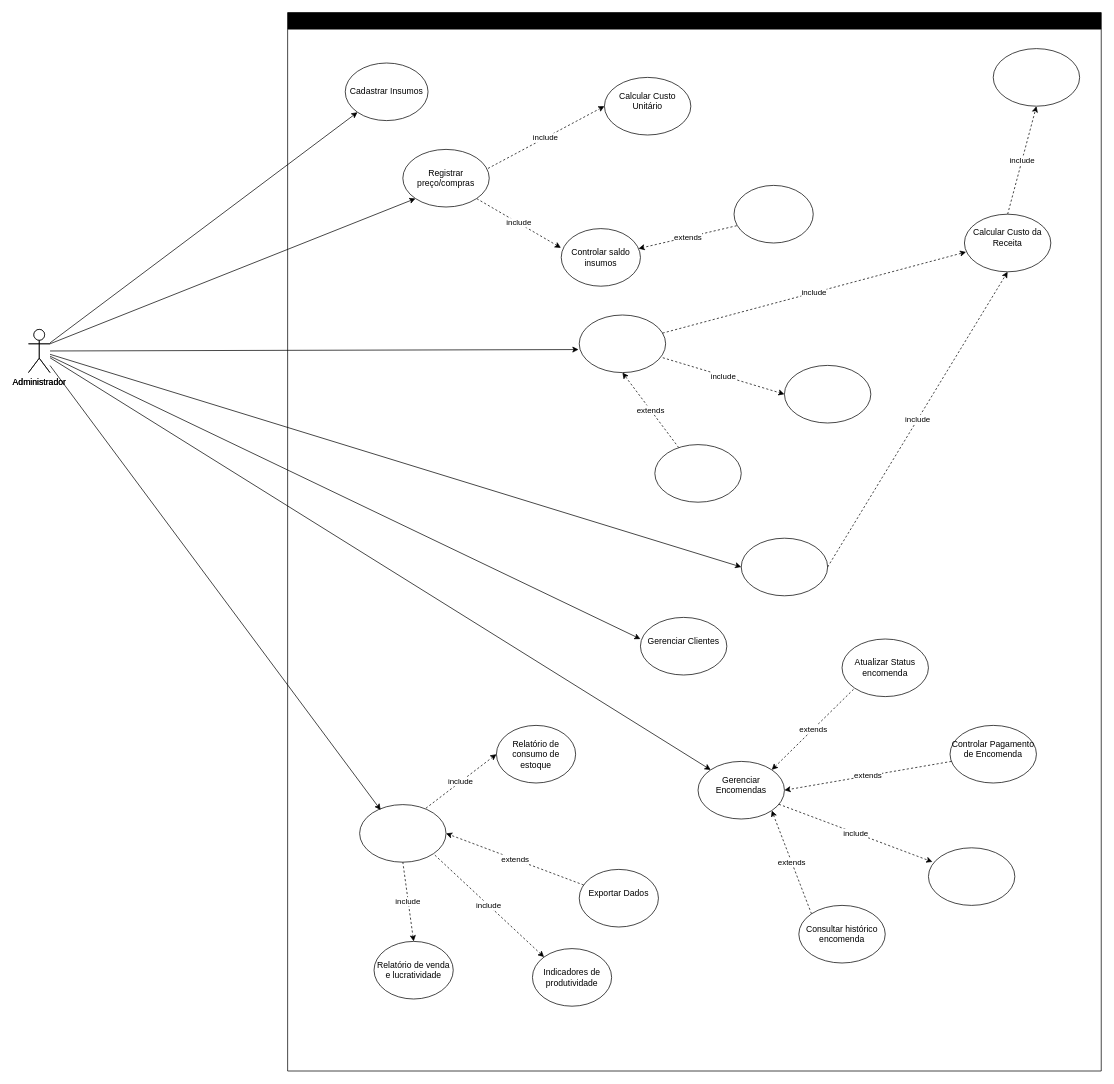
Some shapes in this 1114 by 1084 pixel diagram are drawn without their labels. Each missing label, with the centre of its shape:
Adicionar Custos Extras: pixel 697 473
Adicionar Insumos a receita: pixel 827 394
Alerta de estoque mínimo: pixel 773 214
Baixar Estoque Automaticamente: pixel 971 876
Calcular custo por porção: pixel 1036 77
Criar receitas: pixel 622 343
Cálculo de taxa/lucratividade: pixel 784 566
Gerar Relatórios e Insights: pixel 402 833
